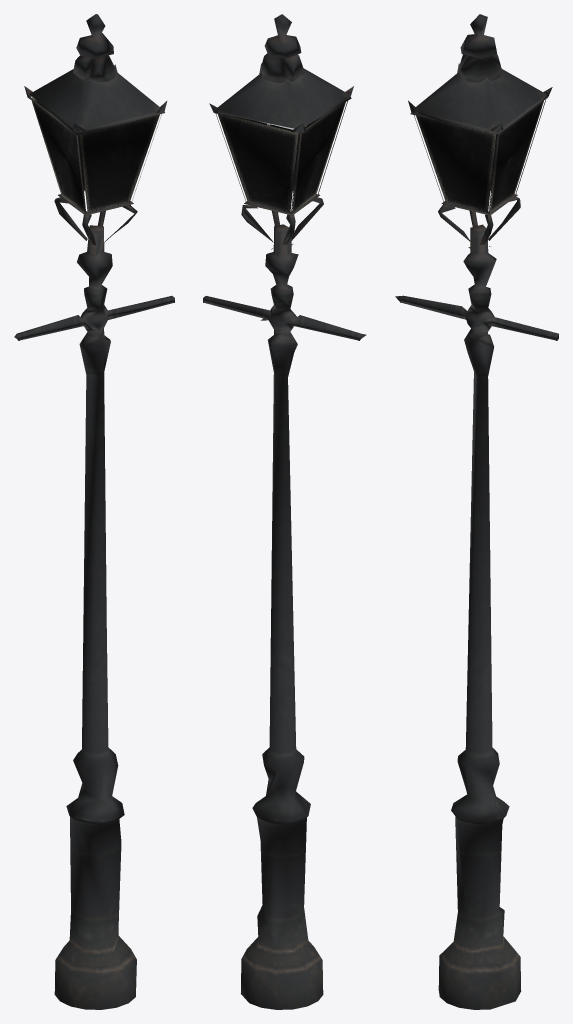
The model's file is street_lamp_tall_low.glb.
3 views of the same model, side by side, from view 1: azimuth 30°, elevation 25°; view 2: azimuth 150°, elevation 25°; view 3: azimuth 330°, elevation 25° (orthographic).
Parts seen in each view (by area): view 1: street_lamp_01; view 2: street_lamp_01; view 3: street_lamp_01.
Part boxes in pixels (x1,y1,x2,y2): street_lamp_01: (14,14,174,1009); street_lamp_01: (203,14,366,1009); street_lamp_01: (395,14,558,1009).
Bounding box in the file's own units: 0.666 × 3.87 × 0.3741.
2 materials, 2 textured.
